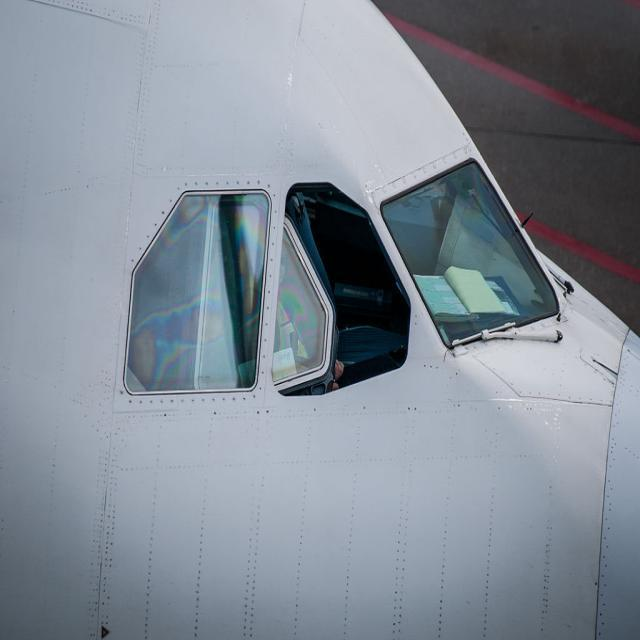crack: (441, 349, 451, 365)
